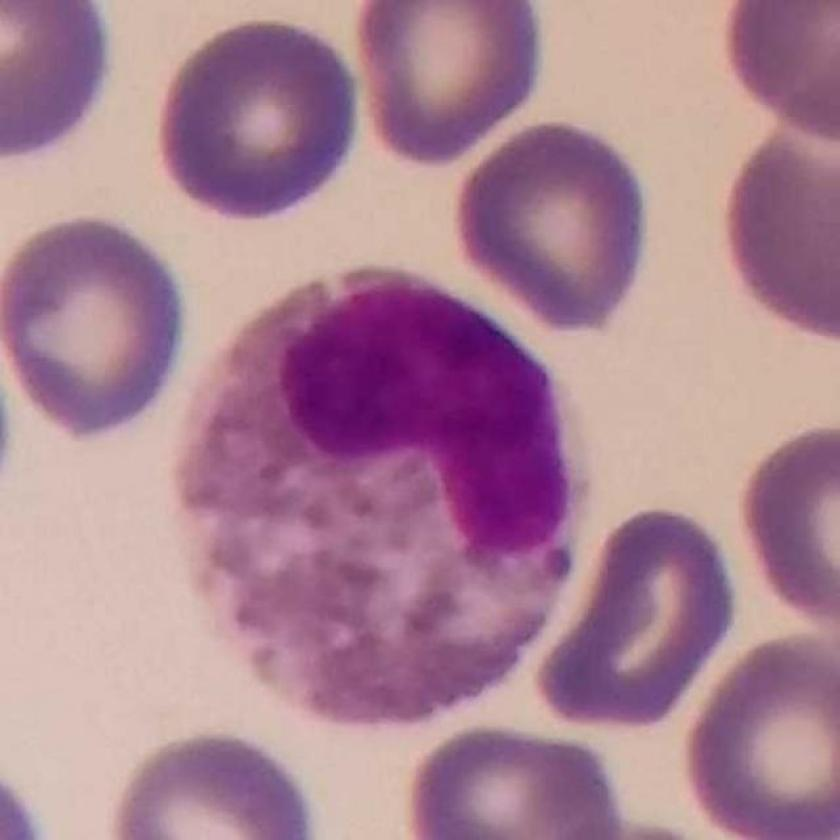eosinophil: (176, 269, 584, 727)
